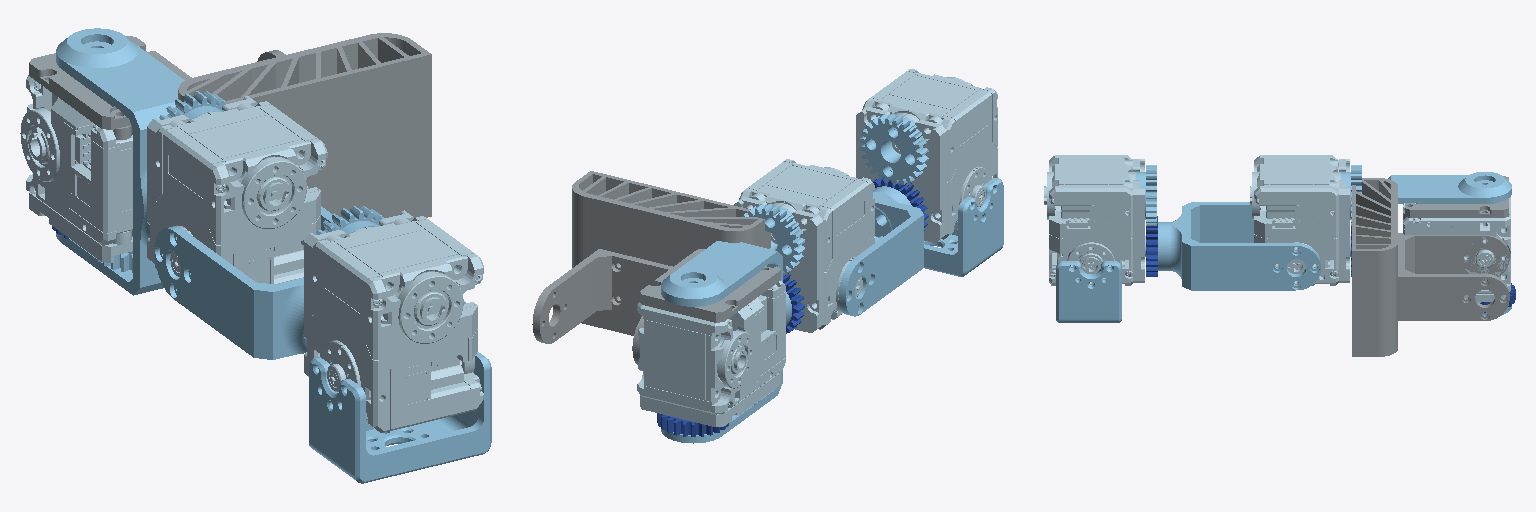
robot.urdf — left_arm_umi:
<?xml version="1.0" ?><robot name="left_arm_umi">  
  <link name="sho_pitch_link">    
    <visual>      
      <origin xyz="0 0 0" rpy="0 -0 0"/>      
      <geometry>        
        <mesh filename="package:///meshes/left_sho_pitch_link_visual.stl"/>        
      </geometry>      
      <material name="sho_pitch_link_material">        
        <color rgba="0.61568627450980395466 0.81176470588235294379 0.92941176470588238168 1.0"/>        
      </material>      
    </visual>    
    <collision>      
      <origin xyz="0 0 0" rpy="0 -0 0"/>      
      <geometry>        
        <mesh filename="package:///meshes/left_sho_pitch_link_collision.stl"/>        
      </geometry>      
    </collision>    
    <inertial>      
      <origin xyz="5.8254248341382494532e-11 -5.1264642561121175806e-05 0.0082440788127094936227" rpy="0 0 0"/>      
      <mass value="0.0086000000000000017403"/>      
      <inertia ixx="1.2272887040545800343e-06" ixy="-2.142994419938170081e-14" ixz="-8.5847198770509101802e-15" iyy="2.9107306060364628558e-06" iyz="7.4623841398182984748e-09" izz="3.0803135950773500398e-06"/>      
    </inertial>    
  </link>  

  <link name="2xl430_gears">    
    <visual>      
      <origin xyz="0 0 0" rpy="0 -0 0"/>      
      <geometry>        
        <mesh filename="package:///meshes/left_2xl430_gears_visual.stl"/>        
      </geometry>      
      <material name="2xl430_gears_material">        
        <color rgba="0.75605985687944088358 0.8580469596269301169 0.91320266199377464478 1.0"/>        
      </material>      
    </visual>    
    <collision>      
      <origin xyz="0 0 0" rpy="0 -0 0"/>      
      <geometry>        
        <mesh filename="package:///meshes/left_2xl430_gears_collision.stl"/>        
      </geometry>      
    </collision>    
    <inertial>      
      <origin xyz="-0.011593155021926912496 -0.0024238821558102432129 -0.018551095523800652243" rpy="0 0 0"/>      
      <mass value="0.11800003674524907338"/>      
      <inertia ixx="2.751155493265647906e-05" ixy="8.9994756794951591073e-07" ixz="-2.3362914879653014433e-08" iyy="3.2796647067985431473e-05" iyz="-6.5715261571464242683e-07" izz="3.5775886684226098863e-05"/>      
    </inertial>    
  </link>  

  <link name="spur_1m_24t_drive">    
    <visual>      
      <origin xyz="0 0 0" rpy="0 -0 0"/>      
      <geometry>        
        <mesh filename="package:///meshes/left_spur_1m_24t_drive_visual.stl"/>        
      </geometry>      
      <material name="spur_1m_24t_drive_material">        
        <color rgba="0.61568627450980395466 0.81176470588235294379 0.92941176470588238168 1.0"/>        
      </material>      
    </visual>    
    <collision>      
      <origin xyz="0 0 0" rpy="0 -0 0"/>      
      <geometry>        
        <mesh filename="package:///meshes/left_spur_1m_24t_drive_collision.stl"/>        
      </geometry>      
    </collision>    
    <inertial>      
      <origin xyz="-7.7521288200634483028e-15 -1.2138469724092915918e-16 0.0047949116178401451557" rpy="0 0 0"/>      
      <mass value="0.003199999999999999286"/>      
      <inertia ixx="1.4019331346159885055e-07" ixy="1.6002409988992536307e-15" ixz="1.2970739157782480749e-36" iyy="1.4019331260388780891e-07" iyz="2.0673934083389124603e-36" izz="2.3838919844264052706e-07"/>      
    </inertial>    
  </link>  

  <joint name="left_sho_yaw_drive" type="revolute">    
    <origin xyz="-0.024000000716141004636 -0.019000000152450596813 -0.019000000152443286688" rpy="1.5707963267948328312 -1.2258104172924911424e-15 7.6362147953450801566e-14"/>    
    <parent link="2xl430_gears"/>    
    <child link="spur_1m_24t_drive"/>    
    <axis xyz="0 0 1"/>    
    <limit effort="1" velocity="20" lower="-2.6179938779914944114" upper="2.6179938779914944114"/>    
    <joint_properties friction="0.0"/>    
  </joint>  

  <link name="spur_1m_24t_driven">    
    <visual>      
      <origin xyz="0 0 0" rpy="0 -0 0"/>      
      <geometry>        
        <mesh filename="package:///meshes/left_spur_1m_24t_driven_visual.stl"/>        
      </geometry>      
      <material name="spur_1m_24t_driven_material">        
        <color rgba="0.23137254901960788156 0.38039215686274502337 0.7058823529411765163 1.0"/>        
      </material>      
    </visual>    
    <collision>      
      <origin xyz="0 0 0" rpy="0 -0 0"/>      
      <geometry>        
        <mesh filename="package:///meshes/left_spur_1m_24t_driven_collision.stl"/>        
      </geometry>      
    </collision>    
    <inertial>      
      <origin xyz="2.3631092538577092045e-18 -5.8047077769919345427e-15 -0.00097054817521927832808" rpy="0 0 0"/>      
      <mass value="0.0026999999999999997093"/>      
      <inertia ixx="1.2036234079571063062e-07" ixy="-5.3408894128227318454e-38" ixz="-1.2781954363449668068e-37" iyy="1.2036234079571044533e-07" iyz="-1.7534228904356342696e-37" izz="2.2847261745924530022e-07"/>      
    </inertial>    
  </link>  

  <link name="sho_yaw_link">    
    <visual>      
      <origin xyz="0 0 0" rpy="0 -0 0"/>      
      <geometry>        
        <mesh filename="package:///meshes/left_sho_yaw_link_visual.stl"/>        
      </geometry>      
      <material name="sho_yaw_link_material">        
        <color rgba="0.61568627450980395466 0.81176470588235294379 0.92941176470588238168 1.0"/>        
      </material>      
    </visual>    
    <collision>      
      <origin xyz="0 0 0" rpy="0 -0 0"/>      
      <geometry>        
        <mesh filename="package:///meshes/left_sho_yaw_link_collision.stl"/>        
      </geometry>      
    </collision>    
    <inertial>      
      <origin xyz="-6.9736191503192354276e-18 3.8819761434054477756e-18 -0.024303257848520158635" rpy="0 0 0"/>      
      <mass value="0.014500000000000016348"/>      
      <inertia ixx="9.0846670053041416663e-06" ixy="3.6224092800135937916e-13" ixz="2.4472316436879021842e-43" iyy="5.6910950712097533498e-06" iyz="1.6220788372704002964e-35" izz="4.4819609845549026751e-06"/>      
    </inertial>    
  </link>  

  <link name="2xl430_gears_2">    
    <visual>      
      <origin xyz="0 0 0" rpy="0 -0 0"/>      
      <geometry>        
        <mesh filename="package:///meshes/left_2xl430_gears_2_visual.stl"/>        
      </geometry>      
      <material name="2xl430_gears_2_material">        
        <color rgba="0.75605985687944088358 0.8580469596269301169 0.91320266199377464478 1.0"/>        
      </material>      
    </visual>    
    <collision>      
      <origin xyz="0 0 0" rpy="0 -0 0"/>      
      <geometry>        
        <mesh filename="package:///meshes/left_2xl430_gears_2_collision.stl"/>        
      </geometry>      
    </collision>    
    <inertial>      
      <origin xyz="-0.011593155021923005898 -0.0024238821558094001372 -0.018551095523810002402" rpy="0 0 0"/>      
      <mass value="0.11800003674524907338"/>      
      <inertia ixx="2.7511554932656817873e-05" ixy="8.999475679531490468e-07" ixz="-2.3362914881072982451e-08" iyy="3.2796647067987166196e-05" iyz="-6.5715261571836672482e-07" izz="3.5775886684226451229e-05"/>      
    </inertial>    
  </link>  

  <link name="spur_1m_24t_drive_2">    
    <visual>      
      <origin xyz="0 0 0" rpy="0 -0 0"/>      
      <geometry>        
        <mesh filename="package:///meshes/left_spur_1m_24t_drive_2_visual.stl"/>        
      </geometry>      
      <material name="spur_1m_24t_drive_2_material">        
        <color rgba="0.61568627450980395466 0.81176470588235294379 0.92941176470588238168 1.0"/>        
      </material>      
    </visual>    
    <collision>      
      <origin xyz="0 0 0" rpy="0 -0 0"/>      
      <geometry>        
        <mesh filename="package:///meshes/left_spur_1m_24t_drive_2_collision.stl"/>        
      </geometry>      
    </collision>    
    <inertial>      
      <origin xyz="-7.7451899261595410744e-15 -1.2138469726677875054e-16 0.0047949116178401373495" rpy="0 0 0"/>      
      <mass value="0.003199999999999999286"/>      
      <inertia ixx="1.4019331346159885055e-07" ixy="1.600241002207976081e-15" ixz="1.0203580191619788986e-37" iyy="1.4019331260388780891e-07" iyz="1.7790518002117816615e-36" izz="2.3838919844264052706e-07"/>      
    </inertial>    
  </link>  

  <joint name="left_elbow_yaw_drive" type="revolute">    
    <origin xyz="-0.024000000716137528251 -0.019000000152447529822 -0.019000000152459547986" rpy="1.570796326795050879 -2.4708842848455862195e-13 -6.0621939164177121919e-14"/>    
    <parent link="2xl430_gears_2"/>    
    <child link="spur_1m_24t_drive_2"/>    
    <axis xyz="0 0 1"/>    
    <limit effort="1" velocity="20" lower="-2.6179938779914944114" upper="2.6179938779914944114"/>    
    <joint_properties friction="0.0"/>    
  </joint>  

  <link name="spur_1m_24t_driven_2">    
    <visual>      
      <origin xyz="0 0 0" rpy="0 -0 0"/>      
      <geometry>        
        <mesh filename="package:///meshes/left_spur_1m_24t_driven_2_visual.stl"/>        
      </geometry>      
      <material name="spur_1m_24t_driven_2_material">        
        <color rgba="0.23137254901960788156 0.38039215686274502337 0.7058823529411765163 1.0"/>        
      </material>      
    </visual>    
    <collision>      
      <origin xyz="0 0 0" rpy="0 -0 0"/>      
      <geometry>        
        <mesh filename="package:///meshes/left_spur_1m_24t_driven_2_collision.stl"/>        
      </geometry>      
    </collision>    
    <inertial>      
      <origin xyz="2.3631092538563652906e-18 -5.8084160300697200678e-15 -0.00097054817521927117235" rpy="0 0 0"/>      
      <mass value="0.0026999999999999997093"/>      
      <inertia ixx="1.2036234079571063062e-07" ixy="7.3086750997471089944e-48" ixz="2.1898678400673001189e-36" iyy="1.2036234079571044533e-07" iyz="-3.2661869446708729184e-38" izz="2.2847261745924530022e-07"/>      
    </inertial>    
  </link>  

  <link name="elb_yaw_link">    
    <visual>      
      <origin xyz="0 0 0" rpy="0 -0 0"/>      
      <geometry>        
        <mesh filename="package:///meshes/left_elb_yaw_link_visual.stl"/>        
      </geometry>      
      <material name="elb_yaw_link_material">        
        <color rgba="0.61568627450980395466 0.81176470588235294379 0.92941176470588227065 1.0"/>        
      </material>      
    </visual>    
    <collision>      
      <origin xyz="0 0 0" rpy="0 -0 0"/>      
      <geometry>        
        <mesh filename="package:///meshes/left_elb_yaw_link_collision.stl"/>        
      </geometry>      
    </collision>    
    <inertial>      
      <origin xyz="5.3127688027619531677e-08 0.0019833638641961700601 -0.023416643551549966296" rpy="0 0 0"/>      
      <mass value="0.017500000000000008604"/>      
      <inertia ixx="1.4134344903109199776e-05" ixy="1.6945783921977629828e-12" ixz="-1.1286398721856847891e-11" iyy="6.6435900776211357345e-06" iyz="1.054522707725306605e-06" izz="8.9925290757999044535e-06"/>      
    </inertial>    
  </link>  

  <link name="spur_1m_24t_driven_3">    
    <visual>      
      <origin xyz="0 0 0" rpy="0 -0 0"/>      
      <geometry>        
        <mesh filename="package:///meshes/left_spur_1m_24t_driven_3_visual.stl"/>        
      </geometry>      
      <material name="spur_1m_24t_driven_3_material">        
        <color rgba="0.23137254901960788156 0.38039215686274502337 0.7058823529411765163 1.0"/>        
      </material>      
    </visual>    
    <collision>      
      <origin xyz="0 0 0" rpy="0 -0 0"/>      
      <geometry>        
        <mesh filename="package:///meshes/left_spur_1m_24t_driven_3_collision.stl"/>        
      </geometry>      
    </collision>    
    <inertial>      
      <origin xyz="2.3631092538576868638e-18 -5.8047077769919376981e-15 -0.0025705481752192754774" rpy="0 0 0"/>      
      <mass value="0.0026999999999999997093"/>      
      <inertia ixx="1.2036234079571068356e-07" ixy="7.4656354546063931248e-37" ixz="-3.914926905832806072e-37" iyy="1.2036234079571044533e-07" iyz="1.970873732535265324e-36" izz="2.284726174592454061e-07"/>      
    </inertial>    
  </link>  

  <link name="2xl430_gears_3">    
    <visual>      
      <origin xyz="0 0 0" rpy="0 -0 0"/>      
      <geometry>        
        <mesh filename="package:///meshes/left_2xl430_gears_3_visual.stl"/>        
      </geometry>      
      <material name="2xl430_gears_3_material">        
        <color rgba="0.75605985687944088358 0.8580469596269301169 0.91320266199377464478 1.0"/>        
      </material>      
    </visual>    
    <collision>      
      <origin xyz="0 0 0" rpy="0 -0 0"/>      
      <geometry>        
        <mesh filename="package:///meshes/left_2xl430_gears_3_collision.stl"/>        
      </geometry>      
    </collision>    
    <inertial>      
      <origin xyz="0.00044890447620203475154 0.011593154663843372246 -0.024576117996641427127" rpy="0 0 0"/>      
      <mass value="0.11800003674524907338"/>      
      <inertia ixx="3.5775886684225746497e-05" ixy="2.336291487979269546e-08" ixz="6.5715261571760174819e-07" iyy="2.7511554932657752997e-05" iyz="8.9994756795280197505e-07" izz="3.2796647067985411144e-05"/>      
    </inertial>    
  </link>  

  <link name="spur_1m_24t_drive_3">    
    <visual>      
      <origin xyz="0 0 0" rpy="0 -0 0"/>      
      <geometry>        
        <mesh filename="package:///meshes/left_spur_1m_24t_drive_3_visual.stl"/>        
      </geometry>      
      <material name="spur_1m_24t_drive_3_material">        
        <color rgba="0.61568627450980395466 0.81176470588235294379 0.92941176470588238168 1.0"/>        
      </material>      
    </visual>    
    <collision>      
      <origin xyz="0 0 0" rpy="0 -0 0"/>      
      <geometry>        
        <mesh filename="package:///meshes/left_spur_1m_24t_drive_3_collision.stl"/>        
      </geometry>      
    </collision>    
    <inertial>      
      <origin xyz="-7.7521288200634483028e-15 -1.2138469724092955362e-16 0.0047949116178401425536" rpy="0 0 0"/>      
      <mass value="0.003199999999999999286"/>      
      <inertia ixx="1.4019331346159887702e-07" ixy="1.6002410075199782595e-15" ixz="-7.0751418124497800165e-36" iyy="1.4019331260388786185e-07" iyz="4.8527069935814632135e-37" izz="2.3838919844264052706e-07"/>      
    </inertial>    
  </link>  

  <joint name="left_wrist_pitch_drive" type="revolute">    
    <origin xyz="-1.524411552671568168e-10 0.024000000358058659611 -0.0080000000000068835493" rpy="9.3688120281041050571e-15 -2.4754138690627644039e-13 -1.570796326794971387"/>    
    <parent link="2xl430_gears_3"/>    
    <child link="spur_1m_24t_drive_3"/>    
    <axis xyz="0 0 1"/>    
    <limit effort="1" velocity="20" lower="-1.9198621771937625091" upper="1.3962634015954635824"/>    
    <joint_properties friction="0.0"/>    
  </joint>  

  <link name="hand">    
    <visual>      
      <origin xyz="0 0 0" rpy="0 -0 0"/>      
      <geometry>        
        <mesh filename="package:///meshes/left_hand_visual.stl"/>        
      </geometry>      
      <material name="hand_material">        
        <color rgba="0.64149913129808899814 0.67624720774385715938 0.69709605361131798951 1.0"/>        
      </material>      
    </visual>    
    <collision>      
      <origin xyz="0 0 0" rpy="0 -0 0"/>      
      <geometry>        
        <mesh filename="package:///meshes/left_hand_collision.stl"/>        
      </geometry>      
    </collision>    
    <inertial>      
      <origin xyz="-0.00370786937874344278 0.042127339671143314292 -0.018490328271618894362" rpy="0 0 0"/>      
      <mass value="0.039499999999999979572"/>      
      <inertia ixx="2.4635502047218482176e-05" ixy="6.2323015589610943666e-07" ixz="1.4391446178023665249e-08" iyy="2.5475207220956888024e-05" iyz="-4.0870433587615386295e-08" izz="1.3466679248868380149e-05"/>      
    </inertial>    
  </link>  

  <joint name="left_wrist_roll" type="revolute">    
    <origin xyz="0.019000000000007889051 -3.5808161991113252043e-10 -0.027000000152448057344" rpy="3.141592653589793116 -1.5707963267945475039 0"/>    
    <parent link="2xl430_gears_3"/>    
    <child link="hand"/>    
    <axis xyz="0 0 1"/>    
    <limit effort="1" velocity="20" lower="-1.9198621771937625091" upper="1.3962634015954635824"/>    
    <joint_properties friction="0.0"/>    
  </joint>  

  <link name="wrist_bearing_plate">    
    <visual>      
      <origin xyz="0 0 0" rpy="0 -0 0"/>      
      <geometry>        
        <mesh filename="package:///meshes/left_wrist_bearing_plate_visual.stl"/>        
      </geometry>      
      <material name="wrist_bearing_plate_material">        
        <color rgba="0.64496316278892629192 0.69011804996940517842 0.71706771073555874985 1.0"/>        
      </material>      
    </visual>    
    <collision>      
      <origin xyz="0 0 0" rpy="0 -0 0"/>      
      <geometry>        
        <mesh filename="package:///meshes/left_wrist_bearing_plate_collision.stl"/>        
      </geometry>      
    </collision>    
    <inertial>      
      <origin xyz="-0.0075835583121500035539 -0.015499999999999982542 -0.0018386323705903340111" rpy="0 0 0"/>      
      <mass value="0.0049000367468305565735"/>      
      <inertia ixx="4.9707430109150129132e-07" ixy="4.8291928725878417577e-23" ixz="1.8100904820814005469e-08" iyy="7.1268523603538563647e-07" iyz="1.2467788443080162633e-23" izz="1.1919657811600107117e-06"/>      
    </inertial>    
  </link>  

  <joint name="left_wrist_pitch_fixed" type="fixed">    
    <origin xyz="0.015500000000007499099 -1.7430501486614957685e-14 -0.044999999999998915867" rpy="4.0578651550042264519e-14 -2.8213542612434331081e-13 -1.570796326794906328"/>    
    <parent link="2xl430_gears_3"/>    
    <child link="wrist_bearing_plate"/>    
    <axis xyz="0 0 1"/>    
    <limit effort="1" velocity="20"/>    
    <joint_properties friction="0.0"/>    
  </joint>  

  <joint name="left_wrist_pitch_driven" type="revolute">    
    <origin xyz="2.7755575615628913511e-17 -1.5777218104420236108e-30 -0.0015999999999999974746" rpy="-2.6917187154893159429e-14 -2.6645352591003750659e-14 -1.570796326794896558"/>    
    <parent link="spur_1m_24t_driven_3"/>    
    <child link="2xl430_gears_3"/>    
    <axis xyz="0 0 1"/>    
    <limit effort="1" velocity="20" lower="-1.3962634015954635824" upper="1.9198621771937625091"/>    
    <joint_properties friction="0.0"/>    
  </joint>  

  <joint name="left_wrist_roll_fixed" type="fixed">    
    <origin xyz="0 -0.025300000000000003042 -0.05200000000000001843" rpy="1.5707963267949236474 -1.5707963267948696906 0"/>    
    <parent link="elb_yaw_link"/>    
    <child link="spur_1m_24t_driven_3"/>    
    <axis xyz="0 0 1"/>    
    <limit effort="1" velocity="20"/>    
    <joint_properties friction="0.0"/>    
  </joint>  

  <joint name="left_elbow_yaw_fixed" type="fixed">    
    <origin xyz="1.5777218104420236108e-30 0 0.0015999999999999903189" rpy="-3.141592653589793116 6.8585119145426910438e-26 -7.6666465467942038555e-26"/>    
    <parent link="spur_1m_24t_driven_2"/>    
    <child link="elb_yaw_link"/>    
    <axis xyz="0 0 1"/>    
    <limit effort="1" velocity="20"/>    
    <joint_properties friction="0.0"/>    
  </joint>  

  <joint name="left_elbow_yaw_driven" type="revolute">    
    <origin xyz="-3.5806398471227574021e-10 -0.027000000152453157432 -0.0190000000000067025" rpy="1.5707963267949571762 1.5707963267947377961 0"/>    
    <parent link="2xl430_gears_2"/>    
    <child link="spur_1m_24t_driven_2"/>    
    <axis xyz="0 0 1"/>    
    <limit effort="1" velocity="20" lower="-2.6179938779914944114" upper="2.6179938779914944114"/>    
    <joint_properties friction="0.0"/>    
  </joint>  

  <joint name="left_elbow_roll" type="revolute">    
    <origin xyz="2.0816681711721685133e-16 -0.019000000000000002998 -0.059000000000000059341" rpy="1.570796326794896558 -8.2694607970959069176e-16 -2.2204460490005989148e-16"/>    
    <parent link="sho_yaw_link"/>    
    <child link="2xl430_gears_2"/>    
    <axis xyz="0 0 1"/>    
    <limit effort="1" velocity="20" lower="-1.9198621771937625091" upper="2.4434609527920612138"/>    
    <joint_properties friction="0.0"/>    
  </joint>  

  <joint name="left_sho_yaw_fixed" type="fixed">    
    <origin xyz="0 7.8886090522101180541e-31 0.0015999999999999868494" rpy="-3.1415926535897917837 7.7715611727616959238e-16 7.7715611725338728944e-16"/>    
    <parent link="spur_1m_24t_driven"/>    
    <child link="sho_yaw_link"/>    
    <axis xyz="0 0 1"/>    
    <limit effort="1" velocity="20"/>    
    <joint_properties friction="0.0"/>    
  </joint>  

  <joint name="left_sho_yaw_driven" type="revolute">    
    <origin xyz="-3.5807162096501699011e-10 -0.027000000152450989027 -0.01899999999999986075" rpy="1.5707963267948492625 8.0395273179087848749e-14 9.4924068605497912938e-14"/>    
    <parent link="2xl430_gears"/>    
    <child link="spur_1m_24t_driven"/>    
    <axis xyz="0 0 1"/>    
    <limit effort="1" velocity="20" lower="-2.6179938779914944114" upper="2.6179938779914944114"/>    
    <joint_properties friction="0.0"/>    
  </joint>  

  <joint name="left_sho_roll" type="revolute">    
    <origin xyz="-0.018999999999999999528 0.00099999999999997161472 0.026999999999999999695" rpy="-3.141592653589793116 1.5707963267948936714 0"/>    
    <parent link="sho_pitch_link"/>    
    <child link="2xl430_gears"/>    
    <axis xyz="0 0 1"/>    
    <limit effort="1" velocity="20" lower="-1.570796326794896558" upper="0.34906585039886589561"/>    
    <joint_properties friction="0.0"/>    
  </joint>  


</robot>

--- Render facts (derived) ---
The picture shows the robot from 3 angles, left to right: view 1: azimuth 30°, elevation 25°; view 2: azimuth 150°, elevation 25°; view 3: azimuth 270°, elevation 25°; orthographic projection.
Robot: left_arm_umi — 14 links, 13 joints (9 revolute, 4 fixed); root link sho_pitch_link; default pose: all joints at 0.
Visible links, largest first — view 1: 2xl430_gears, hand, 2xl430_gears_2, 2xl430_gears_3, sho_pitch_link, sho_yaw_link, elb_yaw_link, wrist_bearing_plate, spur_1m_24t_drive, spur_1m_24t_drive_2; view 2: hand, 2xl430_gears_3, 2xl430_gears, 2xl430_gears_2, sho_yaw_link, elb_yaw_link, sho_pitch_link, spur_1m_24t_drive, wrist_bearing_plate, spur_1m_24t_drive_2, spur_1m_24t_driven_3, spur_1m_24t_driven_2 (+1 smaller); view 3: hand, 2xl430_gears, sho_yaw_link, 2xl430_gears_2, sho_pitch_link, elb_yaw_link, 2xl430_gears_3, wrist_bearing_plate, spur_1m_24t_drive, spur_1m_24t_driven.
Boxes of the visible links, x1=… form: 2xl430_gears: x1=304, y1=210, x2=483, y2=432; hand: x1=178, y1=33, x2=431, y2=217; 2xl430_gears_2: x1=147, y1=96, x2=327, y2=284; 2xl430_gears_3: x1=20, y1=75, x2=132, y2=262; sho_pitch_link: x1=309, y1=352, x2=491, y2=483; sho_yaw_link: x1=155, y1=206, x2=332, y2=359; elb_yaw_link: x1=56, y1=28, x2=184, y2=295; wrist_bearing_plate: x1=29, y1=36, x2=191, y2=139; spur_1m_24t_drive: x1=316, y1=206, x2=384, y2=234; spur_1m_24t_drive_2: x1=159, y1=91, x2=224, y2=119; hand: x1=532, y1=171, x2=770, y2=364; 2xl430_gears_3: x1=637, y1=280, x2=785, y2=426; 2xl430_gears: x1=856, y1=69, x2=997, y2=242; 2xl430_gears_2: x1=734, y1=159, x2=874, y2=332; sho_yaw_link: x1=838, y1=186, x2=923, y2=316; elb_yaw_link: x1=661, y1=241, x2=791, y2=443; sho_pitch_link: x1=924, y1=178, x2=1003, y2=276; spur_1m_24t_drive: x1=860, y1=113, x2=928, y2=185; wrist_bearing_plate: x1=640, y1=249, x2=780, y2=322; spur_1m_24t_drive_2: x1=742, y1=204, x2=804, y2=272; spur_1m_24t_driven_3: x1=657, y1=413, x2=728, y2=436; spur_1m_24t_driven_2: x1=783, y1=273, x2=804, y2=333; hand: x1=1352, y1=178, x2=1509, y2=356; 2xl430_gears: x1=1044, y1=155, x2=1145, y2=285; sho_yaw_link: x1=1158, y1=202, x2=1320, y2=290; 2xl430_gears_2: x1=1250, y1=155, x2=1350, y2=285; sho_pitch_link: x1=1056, y1=261, x2=1121, y2=322; elb_yaw_link: x1=1388, y1=172, x2=1511, y2=315; 2xl430_gears_3: x1=1403, y1=197, x2=1510, y2=302; wrist_bearing_plate: x1=1403, y1=176, x2=1508, y2=219; spur_1m_24t_drive: x1=1136, y1=165, x2=1156, y2=225; spur_1m_24t_driven: x1=1146, y1=216, x2=1157, y2=276.
Bounding box of the posed robot: 0.097 × 0.2012 × 0.0652 m (x, y, z).
Meshes: 14 distinct files referenced, 14 mesh visuals loaded (14 binary STL).